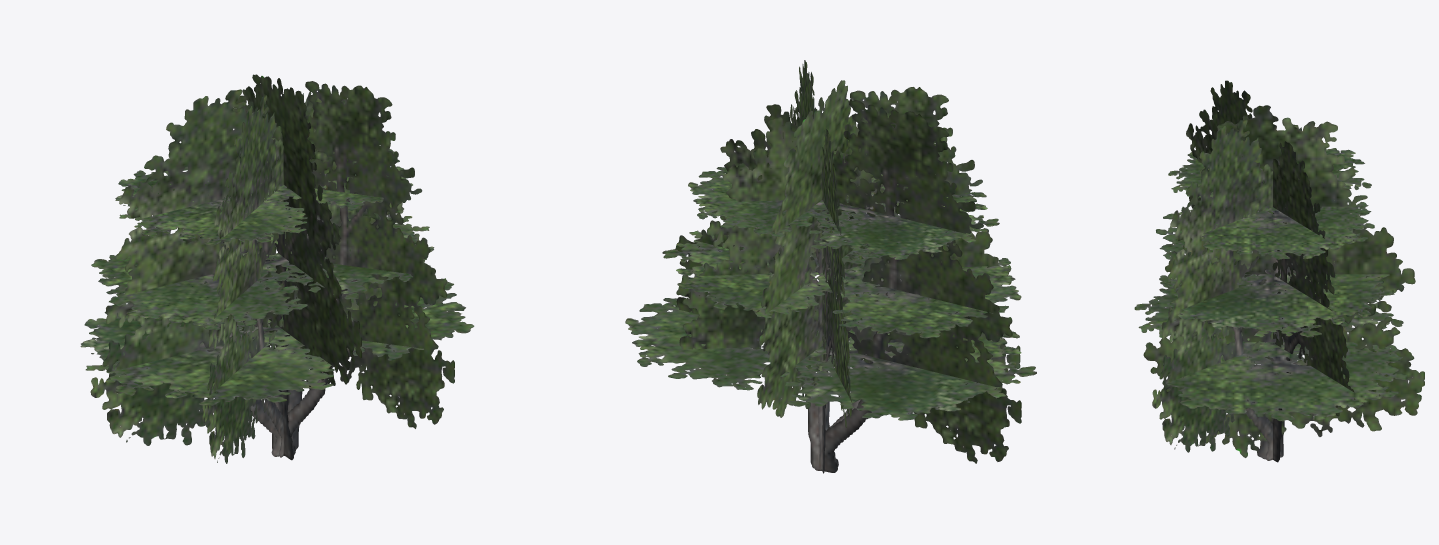
3 views of the same model, side by side, from view 1: azimuth 30°, elevation 25°; view 2: azimuth 150°, elevation 25°; view 3: azimuth 270°, elevation 25° (orthographic). The views are drawn at different scales.
Size of the model in its own units: 13.12 by 12.65 by 9.79.
Materials: 1 (1 with a texture image).
